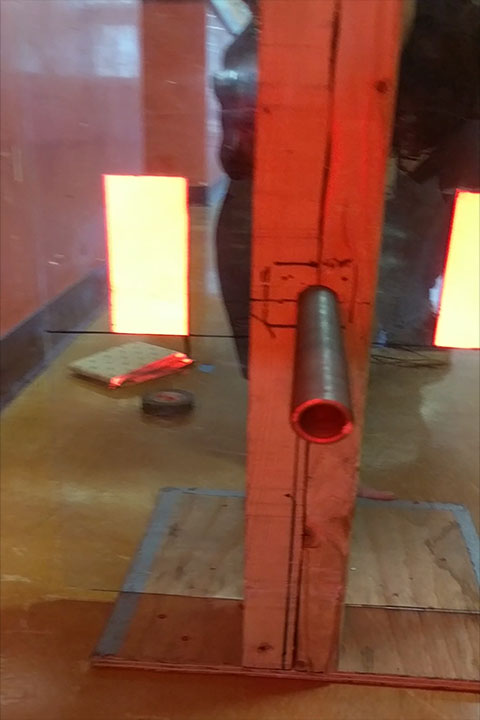gear: (102, 173, 191, 339), (432, 188, 480, 348)
